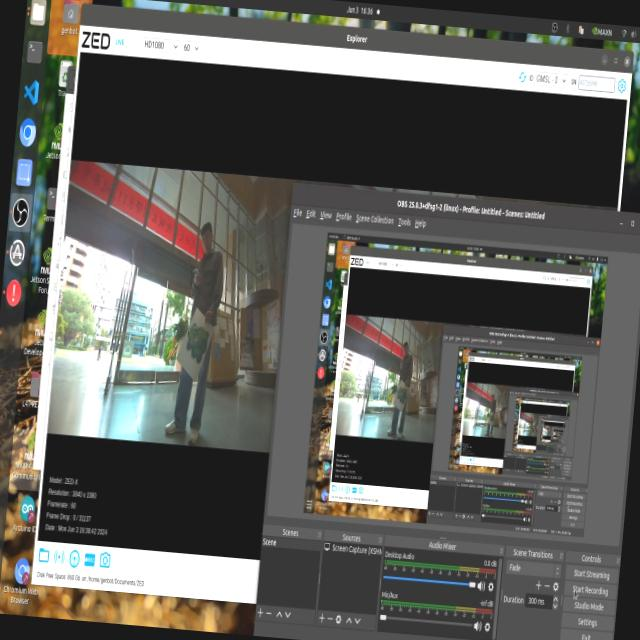green: (183, 312, 210, 367), (391, 379, 407, 412)
